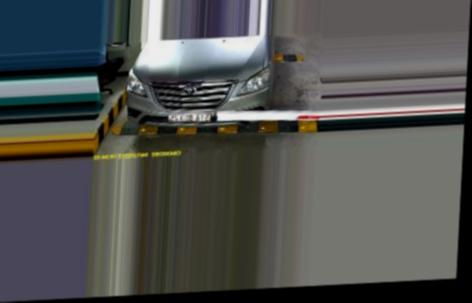License_Plate: (165, 110, 211, 124)
